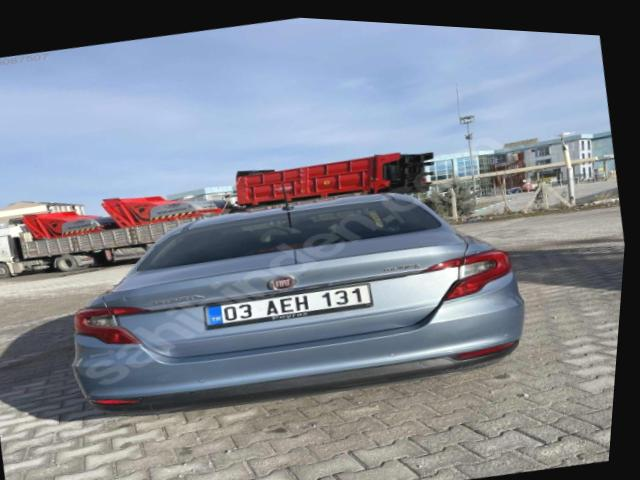plaka: (204, 283, 372, 326)
